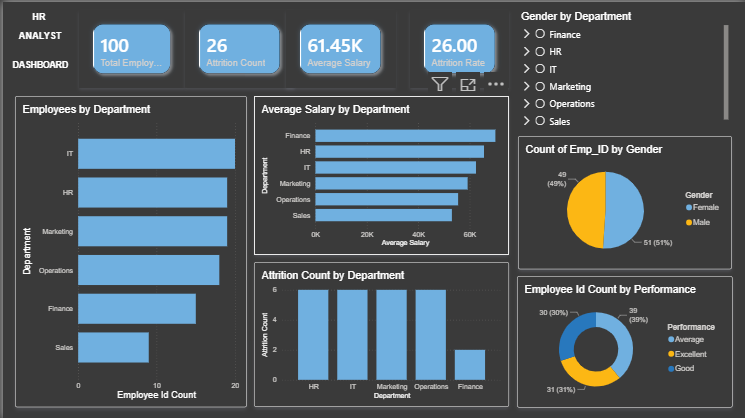

The page's visual inventory and layout, read from the dashboard file:
{"tool":"powerbi","page":{"name":"Page 1","canvas":[1280,720],"ordinal":0},"visuals":[{"type":"cardVisual","fields":{"Data":["HR_Dataset.Total Employees"]},"box":[131.2,13.3,182.9,134.2],"z":0},{"type":"cardVisual","fields":{"Data":["HR_Dataset.Attrition Count"]},"box":[314.1,13.3,188.8,134.2],"z":1000},{"type":"cardVisual","fields":{"Data":["HR_Dataset.Average Salary"]},"box":[488.1,13.3,188.8,134.2],"z":2000},{"type":"cardVisual","fields":{"Data":["HR_Dataset.Attrition Rate"]},"box":[701.9,13.3,171.1,134.2],"z":3000},{"type":"clusteredBarChart","title":"Employees by Department","fields":{"Category":["HR_Dataset.Department"],"Y":["HR_Dataset.Employee Id Count"]},"box":[20.5,162.4,399.5,537.1],"z":4000},{"type":"pieChart","fields":{"Category":["HR_Dataset.Gender"],"Y":["CountNonNull(HR_Dataset.Emp_ID)"]},"box":[889.2,231.5,368.7,230],"z":5000},{"type":"clusteredColumnChart","fields":{"Category":["HR_Dataset.Department"],"Y":["HR_Dataset.Attrition Count"]},"box":[433.2,449.3,440.5,250.2],"z":6000},{"type":"listSlicer","title":"Gender by Department","fields":{"Values":["HR_Dataset.Department","HR_Dataset.Gender","HR_Dataset.Attrition"]},"box":[889.2,13.3,368.7,206.5],"z":7000},{"type":"donutChart","fields":{"Category":["HR_Dataset.Performance"],"Y":["HR_Dataset.Employee Id Count"]},"box":[886.3,471.9,371.6,227.1],"z":8000},{"type":"barChart","title":"Average Salary by Department","fields":{"Category":["HR_Dataset.Department"],"Y":["HR_Dataset.Average Salary"]},"box":[433.2,162.4,440.5,273.7],"z":9000},{"type":"textbox","box":[9.9,12.8,107.7,134.7],"z":10000}]}

Visuals, with their boxes in screenshot pixels (x1, y1, x2, y2), scaled from the page's 1280x720 canvas onto the 745x418 screenshot:
cardVisual - HR_Dataset.Total Employees: left=76, top=8, right=183, bottom=86
cardVisual - HR_Dataset.Attrition Count: left=183, top=8, right=293, bottom=86
cardVisual - HR_Dataset.Average Salary: left=284, top=8, right=394, bottom=86
cardVisual - HR_Dataset.Attrition Rate: left=409, top=8, right=508, bottom=86
"Employees by Department" clusteredBarChart: left=12, top=94, right=244, bottom=406
pieChart - HR_Dataset.Gender x CountNonNull(HR_Dataset.Emp_ID): left=518, top=134, right=732, bottom=268
clusteredColumnChart - HR_Dataset.Department x HR_Dataset.Attrition Count: left=252, top=261, right=509, bottom=406
"Gender by Department" listSlicer: left=518, top=8, right=732, bottom=128
donutChart - HR_Dataset.Performance x HR_Dataset.Employee Id Count: left=516, top=274, right=732, bottom=406
"Average Salary by Department" barChart: left=252, top=94, right=509, bottom=253
textbox: left=6, top=7, right=68, bottom=86
